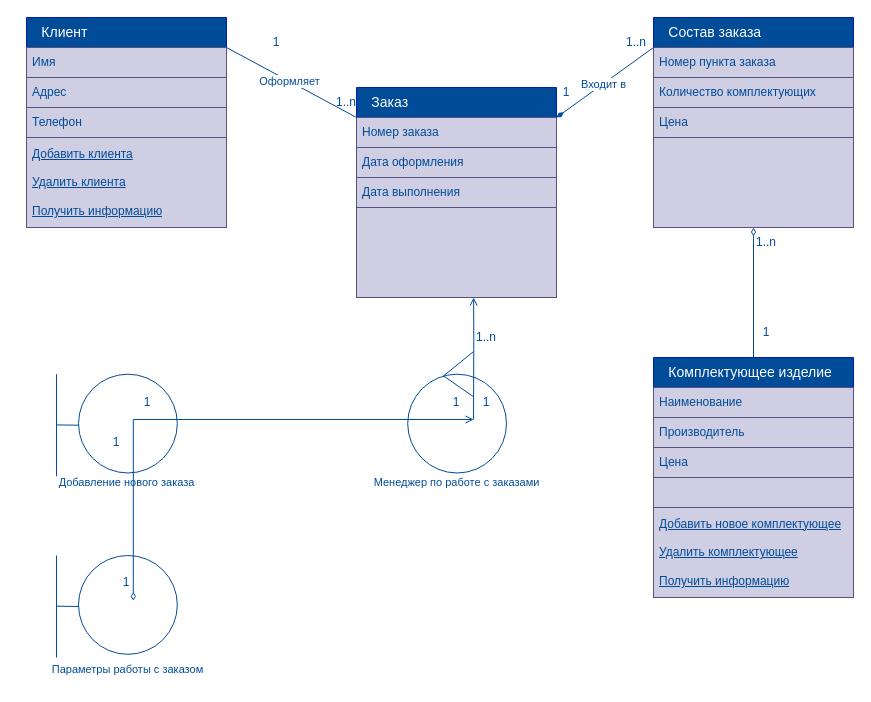
Some shapes in this 871 by 702 pixel diagram are drawn without their labels. The centre of each missing label's shape, as x and y in pixels:
"Описание" belongs at point (753, 492).
"Создание нового заказа Занести информацию Получить информацию" belongs at point (456, 252).
"Создать строку заказа Добавить информацию Получить информацию" belongs at point (753, 182).
